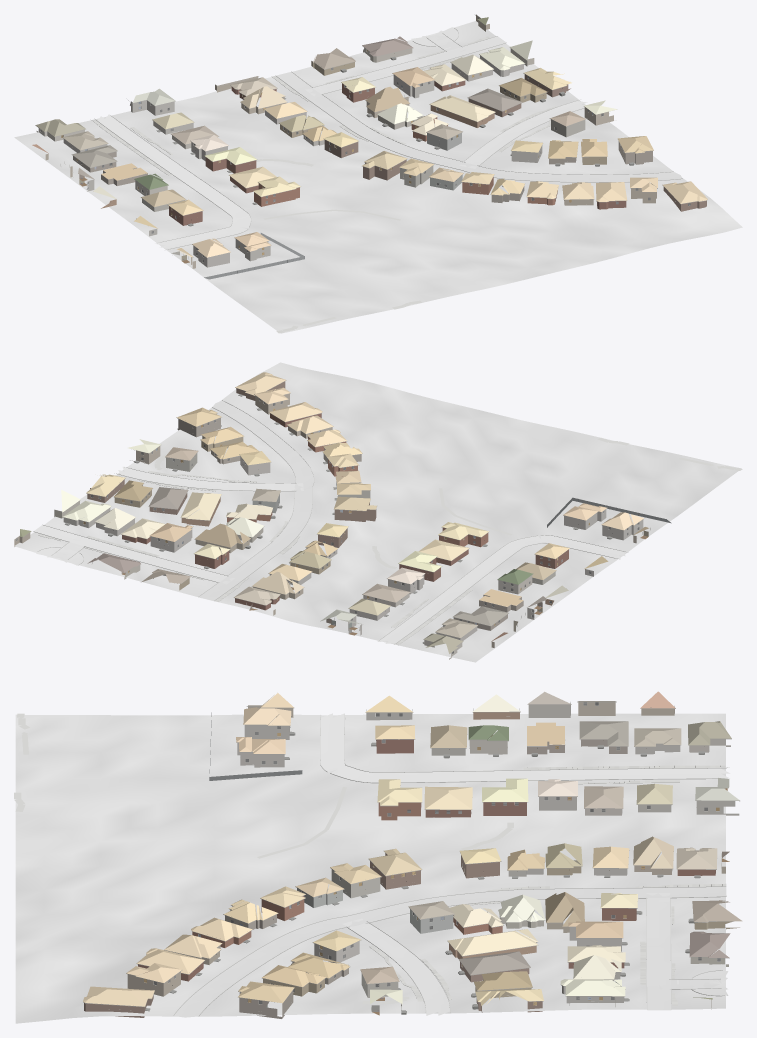
3 views of the same model, one above another, from view 1: azimuth 30°, elevation 25°; view 2: azimuth 150°, elevation 25°; view 3: azimuth 270°, elevation 25° (orthographic). The views are drawn at different scales.
Parts seen in each view (by area): view 1: ground, roof, concrete, wall, wall_stone, wall_stucco, detail, curb, walk, chain; view 2: ground, roof, concrete, wall, wall_stone, detail, walk, curb, wall_stucco; view 3: ground, roof, concrete, wall, wall_stone, detail, wall_stucco, walk, curb, glass.
Boxes of the visible parts, box(x1,y1,x2,y2) form: ground: box(14, 21, 742, 333); roof: box(32, 17, 707, 257); concrete: box(97, 27, 682, 248); wall: box(45, 14, 706, 225); wall_stone: box(63, 55, 542, 267); wall_stucco: box(36, 48, 613, 268); detail: box(35, 15, 707, 273); curb: box(93, 28, 682, 249); walk: box(91, 36, 596, 333); chain: box(204, 233, 304, 279); ground: box(14, 362, 741, 662); roof: box(20, 372, 648, 653); concrete: box(34, 400, 625, 643); wall: box(14, 381, 568, 647); wall_stone: box(63, 456, 643, 640); detail: box(14, 380, 666, 654); walk: box(38, 437, 742, 644); curb: box(33, 400, 627, 645); wall_stucco: box(54, 446, 636, 659); ground: box(15, 713, 725, 1023); roof: box(83, 691, 742, 1006); concrete: box(174, 713, 730, 1017); wall: box(84, 706, 739, 1018); wall_stone: box(237, 702, 739, 1003); detail: box(83, 701, 739, 1014); wall_stucco: box(248, 701, 730, 1006); walk: box(14, 713, 726, 1005); curb: box(173, 714, 729, 1016); glass: box(154, 702, 720, 1004).
Bounding box in the file's own units: 259 × 15.09 × 257.
